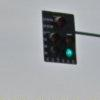traffic lights: (47, 15, 76, 62)
